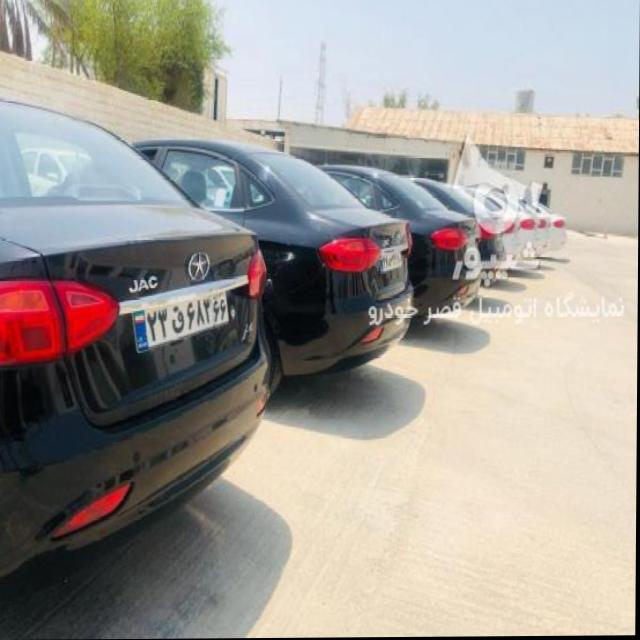licence: (132, 288, 228, 353), (378, 246, 405, 275)
